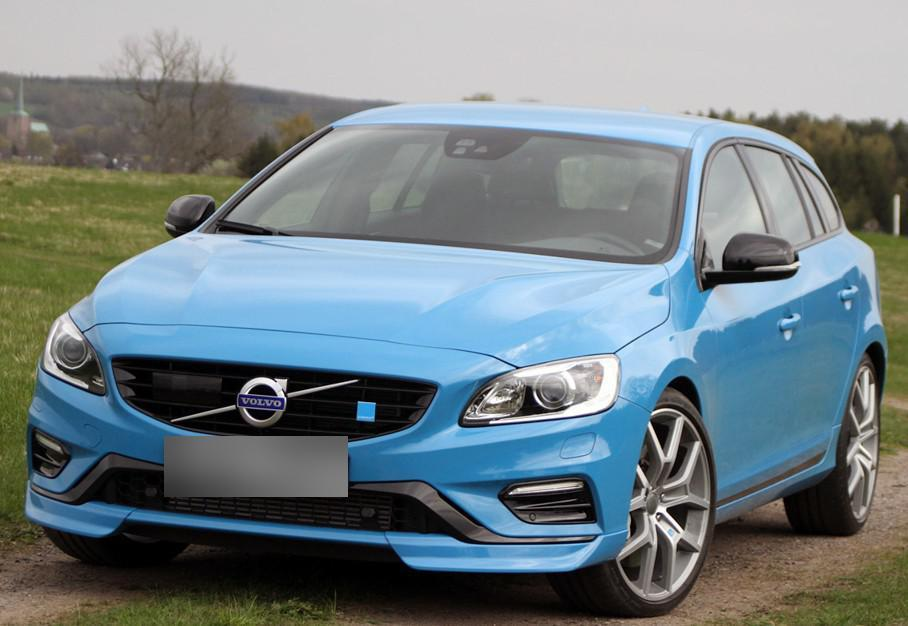Wagon: (23, 100, 889, 617)
